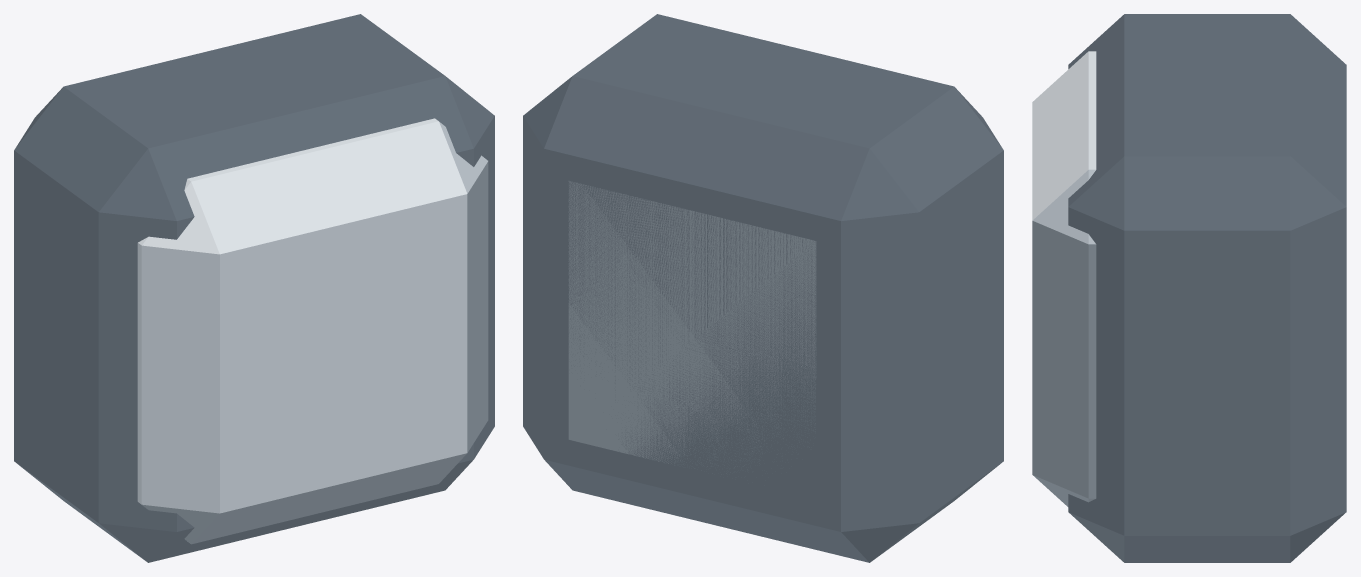
File: Terrain_Block1x1.gltf
The picture shows the model from 3 angles, left to right: view 1: azimuth 30°, elevation 25°; view 2: azimuth 150°, elevation 25°; view 3: azimuth 270°, elevation 25°; orthographic projection.
Visible parts, largest first — view 1: Terrain_Block1x1_baked; view 2: Terrain_Block1x1_baked; view 3: Terrain_Block1x1_baked.
Part boxes in pixels (bbox=[...]): Terrain_Block1x1_baked: bbox=[14, 14, 494, 562]; Terrain_Block1x1_baked: bbox=[523, 14, 1003, 562]; Terrain_Block1x1_baked: bbox=[1032, 14, 1346, 562].
Bounding box in the file's own units: 1 × 1 × 0.7.
